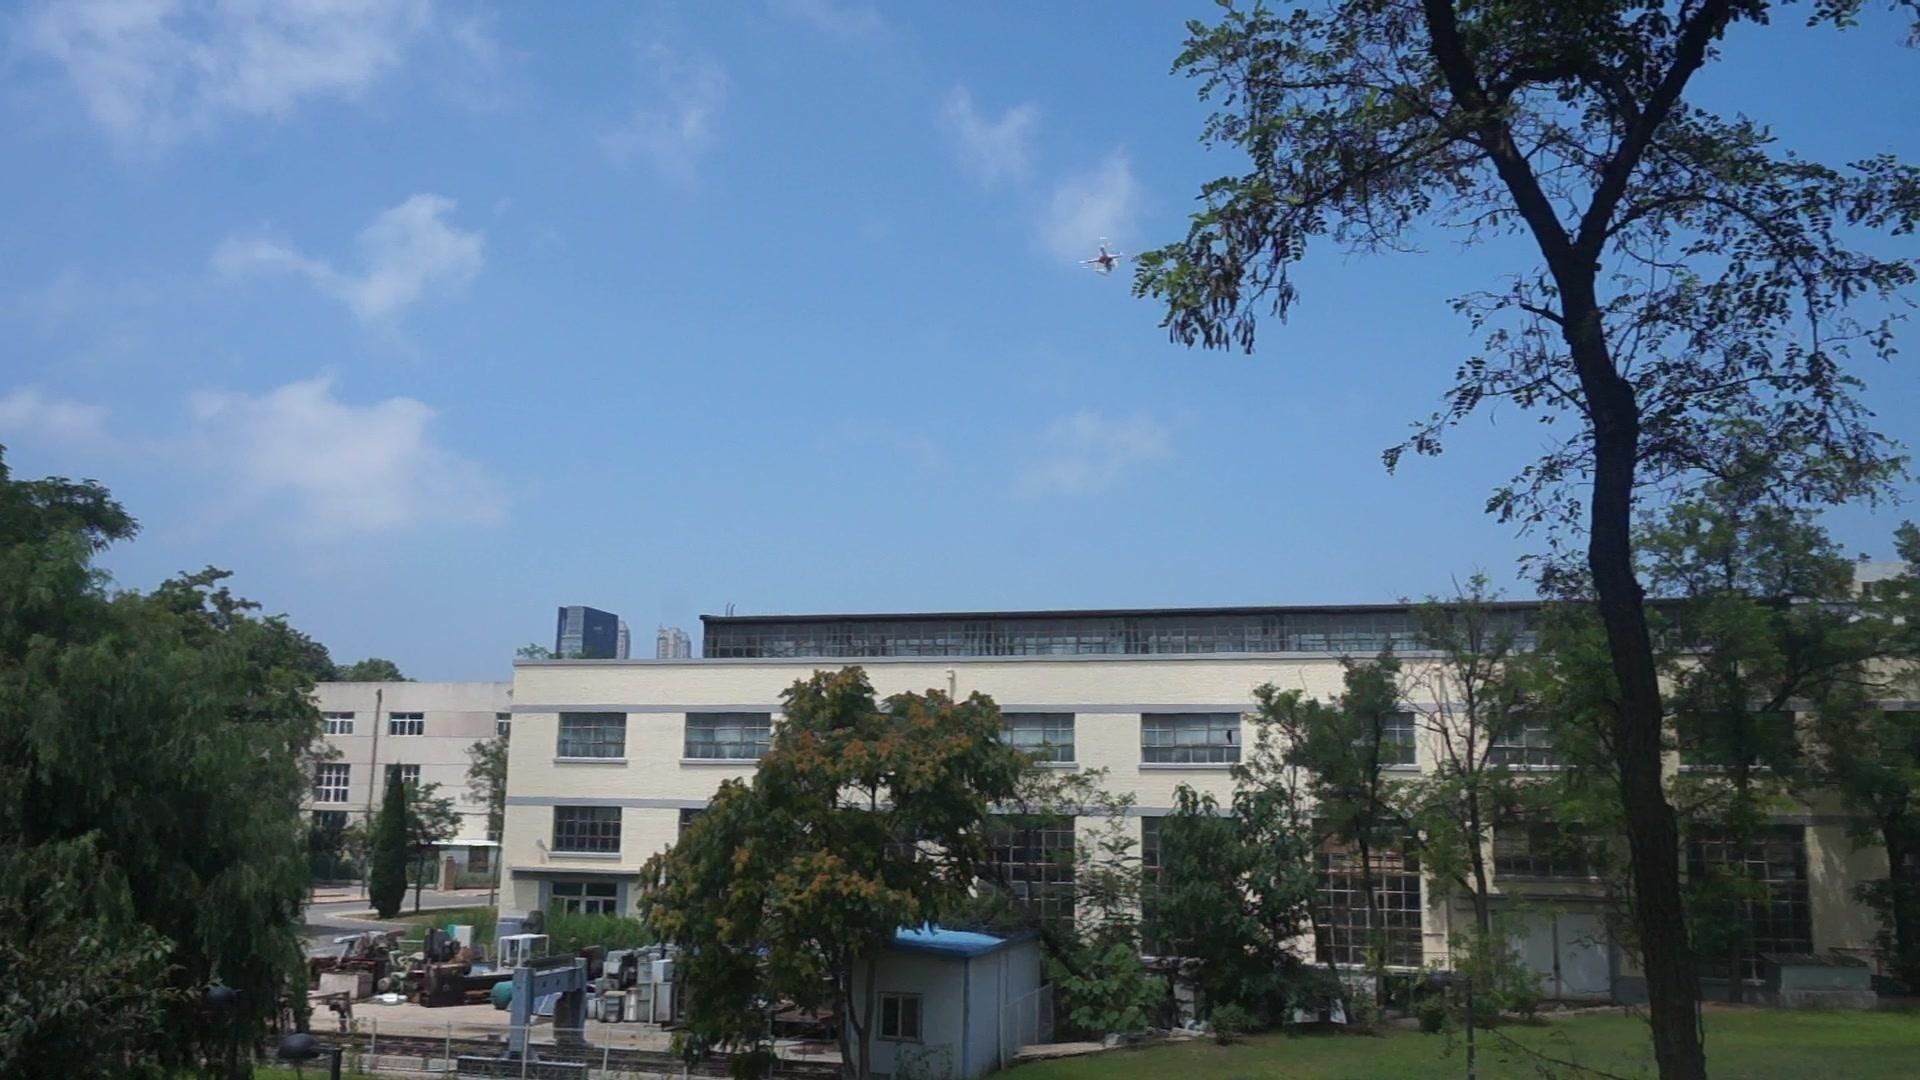UAV: (1077, 233, 1127, 277)
